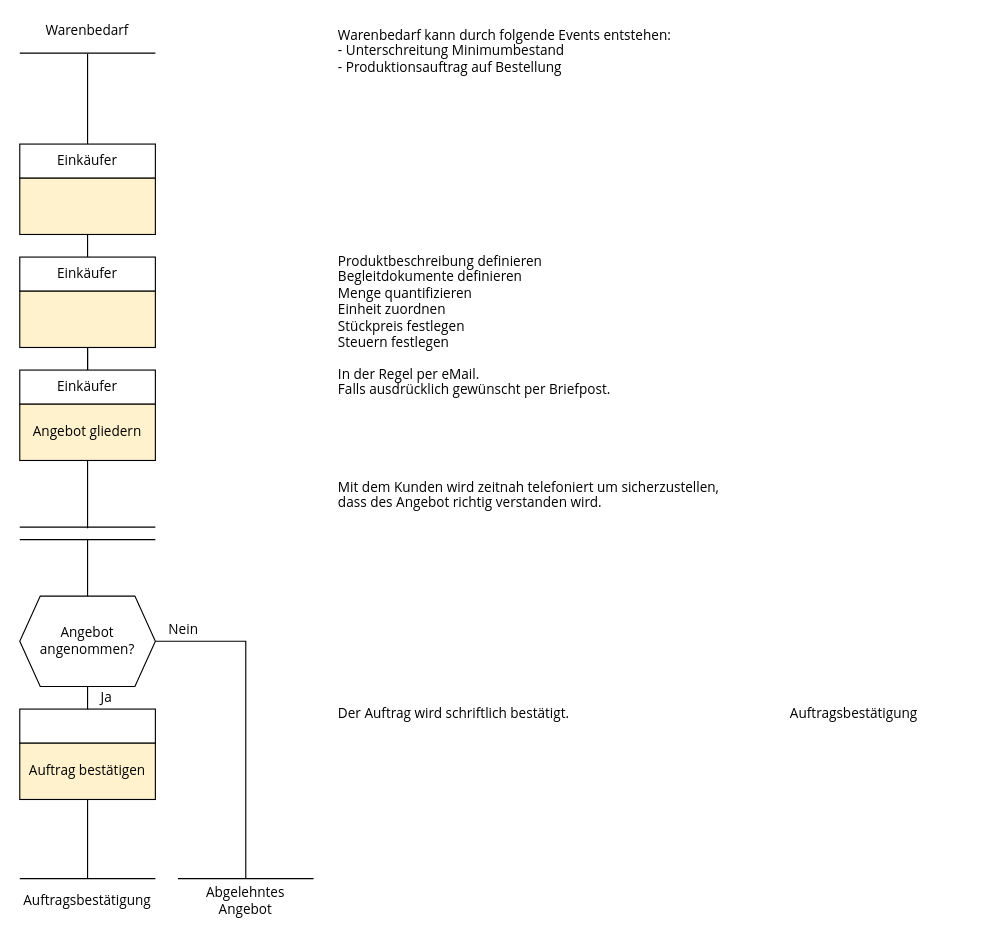
Image size: 989x937. Some labels were removed from this diagram. Here are the shapes that lost their labels. From the top down, the centre of each, then its label:
[87,205]: Angebotsanfrage anlegen
[87,318]: Einkaufsprodukte definieren
[87,725]: Bauleiter
